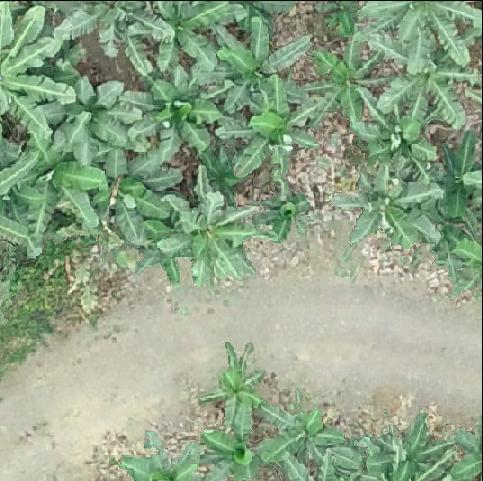Banana-plant: (208, 79, 325, 179), (371, 33, 479, 139), (0, 136, 102, 247), (327, 157, 437, 257), (93, 151, 179, 252), (164, 194, 264, 279), (39, 81, 138, 161), (208, 26, 307, 102), (307, 45, 385, 136), (133, 0, 247, 62), (140, 73, 219, 157), (362, 411, 455, 481), (360, 108, 443, 181), (196, 347, 266, 426), (256, 400, 337, 466), (439, 133, 483, 216), (202, 435, 266, 481), (259, 188, 310, 243)
